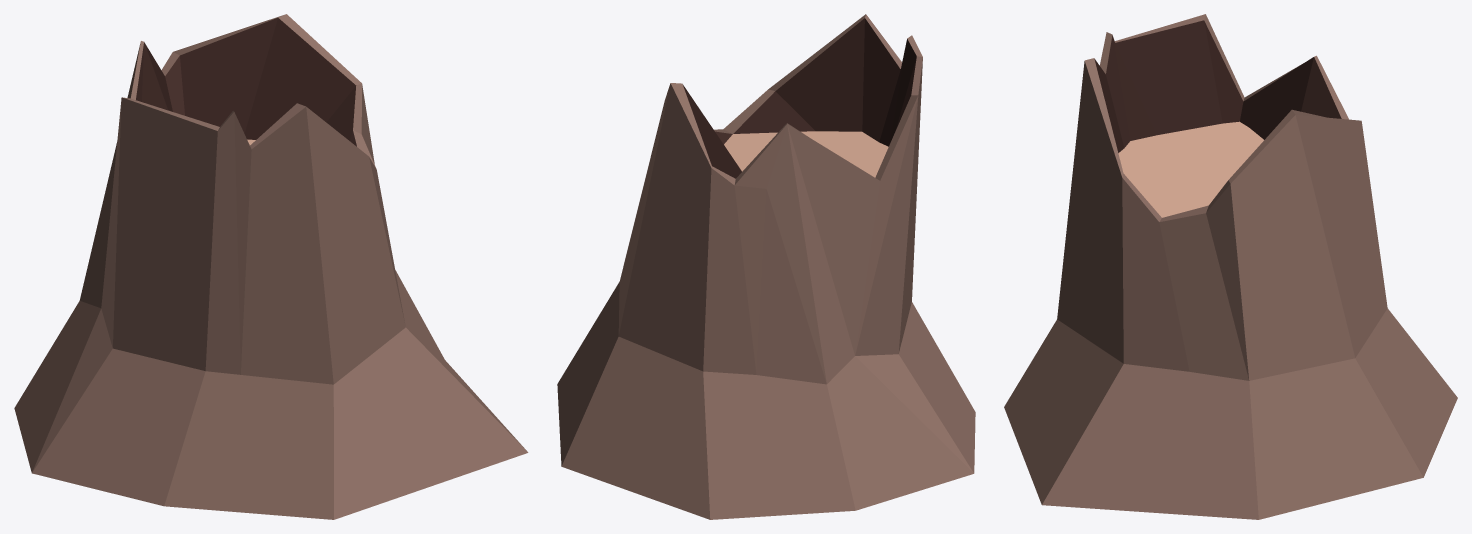
Rendered from tree_old_trunk_2.fbx.
The picture shows the model from 3 angles, left to right: view 1: azimuth 30°, elevation 25°; view 2: azimuth 150°, elevation 25°; view 3: azimuth 270°, elevation 25°; orthographic projection. The views are drawn at different scales.
Parts seen in each view (by area): view 1: Tree_Old_Trunk_2; view 2: Tree_Old_Trunk_2; view 3: Tree_Old_Trunk_2.
Part boxes in pixels (box(x1,y1,x2,y2)): Tree_Old_Trunk_2: box(14, 14, 528, 519); Tree_Old_Trunk_2: box(557, 14, 975, 519); Tree_Old_Trunk_2: box(1004, 14, 1457, 519).
Bounding box in the file's own units: 172 × 146 × 170.
